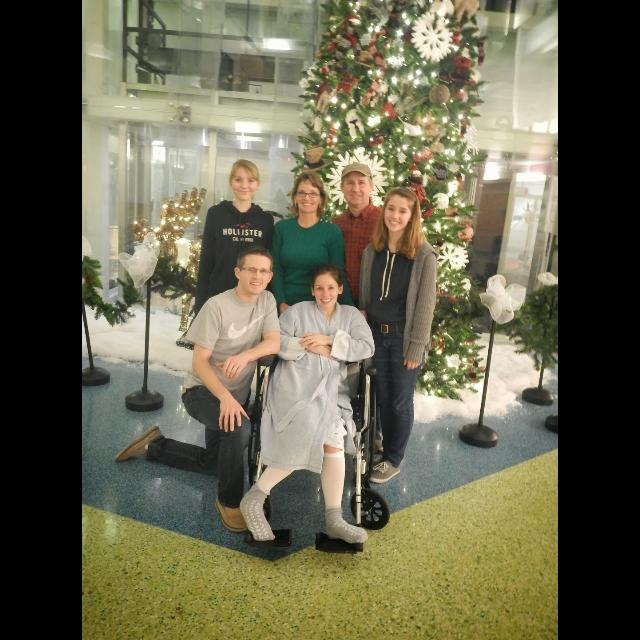head: (234, 246, 274, 294), (383, 188, 419, 232), (310, 264, 344, 310), (340, 167, 376, 207), (294, 174, 324, 214), (230, 160, 260, 200)
person: (111, 238, 285, 538), (236, 258, 380, 550), (354, 184, 444, 486), (321, 160, 403, 458), (267, 168, 347, 452), (192, 154, 280, 410)
